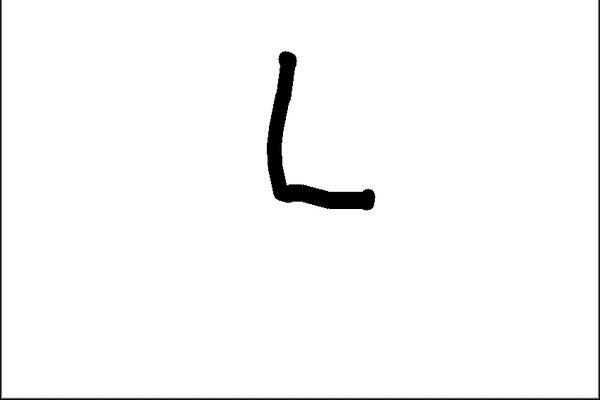L: (260, 42, 381, 216)
